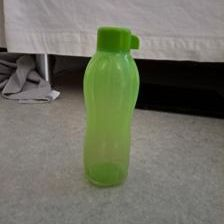bottle: (78, 24, 143, 188)
